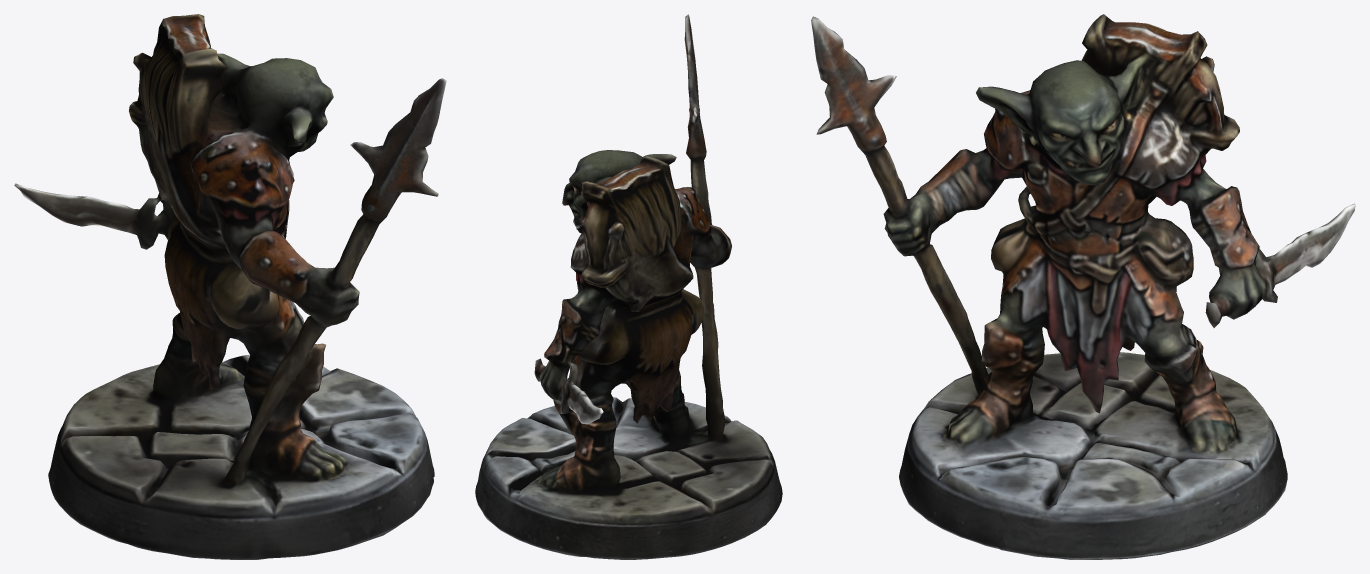
Rendered from goblin.glb.
3 views of the same model, side by side, from view 1: azimuth 30°, elevation 25°; view 2: azimuth 150°, elevation 25°; view 3: azimuth 270°, elevation 25° (orthographic). The views are drawn at different scales.
Parts seen in each view (by area): view 1: lagrange_node; view 2: lagrange_node; view 3: lagrange_node.
Boxes of the visible parts, bbox=[...] form: lagrange_node: bbox=[14, 14, 446, 559]; lagrange_node: bbox=[475, 14, 782, 559]; lagrange_node: bbox=[811, 14, 1355, 559].
Size of the model in its own units: 1.43 by 1.99 by 1.99.
Materials: 1 (1 with a texture image).
